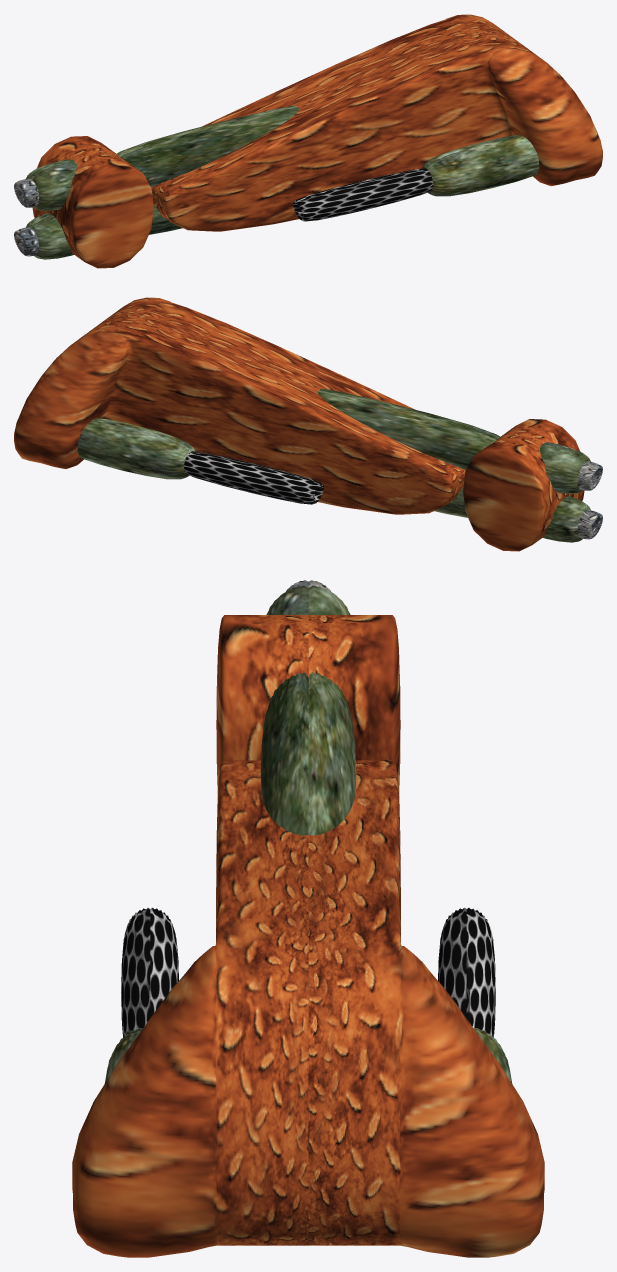
File: gattling.dae
3 views of the same model, one above another, from view 1: azimuth 30°, elevation 25°; view 2: azimuth 150°, elevation 25°; view 3: azimuth 270°, elevation 25° (orthographic). The views are drawn at different scales.
Parts seen in each view (by area): view 1: Cube; view 2: Cube; view 3: Cube.
Boxes of the visible parts, x1,y1,x2,y2 form: Cube: (14, 14, 602, 268); Cube: (14, 297, 602, 551); Cube: (72, 580, 544, 1257).
Bounding box in the file's own units: 3.08 × 1.18 × 0.6907.
6 materials, 5 textured.
